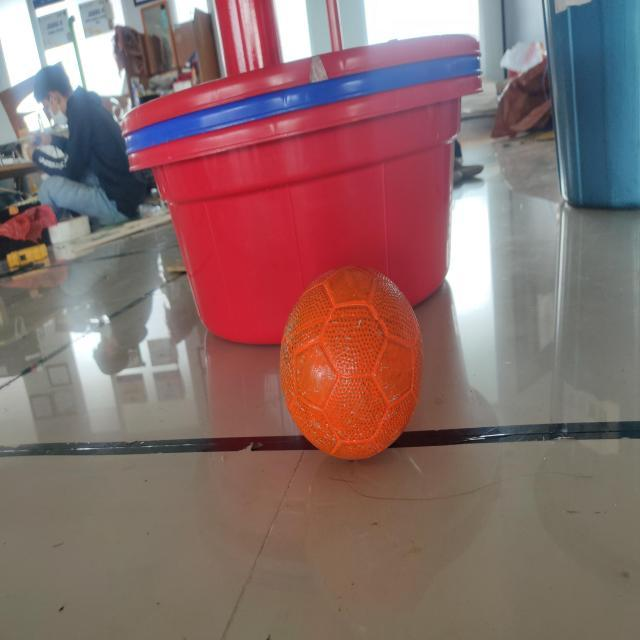bola: (276, 258, 426, 462)
